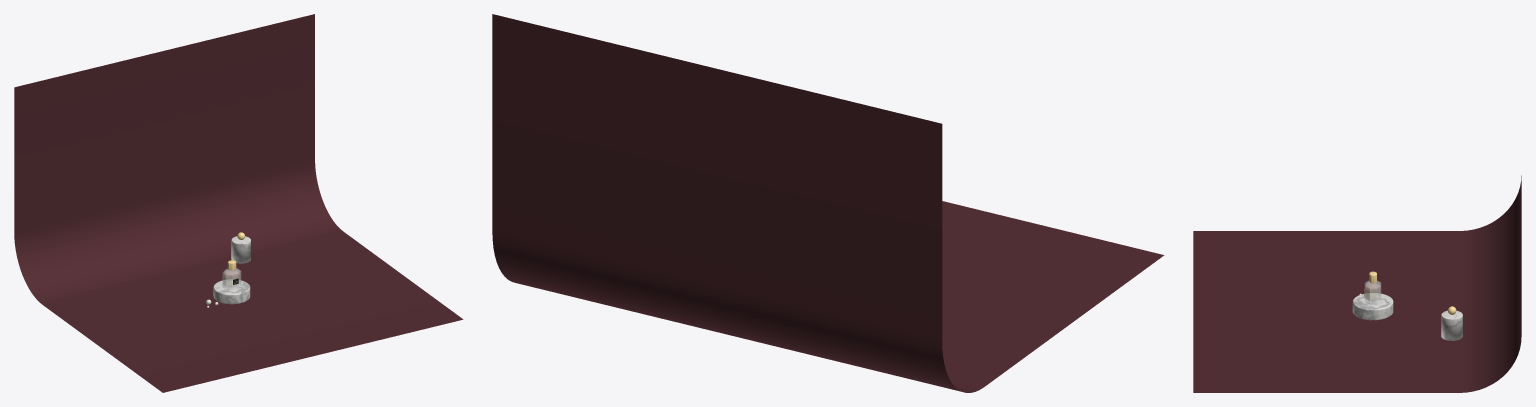
3 renders of one model, left to right at view 1: azimuth 30°, elevation 25°; view 2: azimuth 150°, elevation 25°; view 3: azimuth 270°, elevation 25°, orthographic. The views are drawn at different scales.
Parts seen in each view (by area): view 1: Cyclorama, Pedestal, Column; view 2: Cyclorama; view 3: Cyclorama, Pedestal, Column, Bottle.
Part boxes in pixels (x1,y1,x2,y2): Cyclorama: (14,14,463,392); Pedestal: (213,279,250,304); Column: (231,236,250,263); Cyclorama: (492,14,1164,392); Cyclorama: (1193,175,1521,392); Pedestal: (1352,293,1393,320); Column: (1441,310,1462,340); Bottle: (1365,280,1380,304).
Size of the model in its own units: 1.6 by 1 by 1.37.
Materials: 9 (2 with a texture image).
